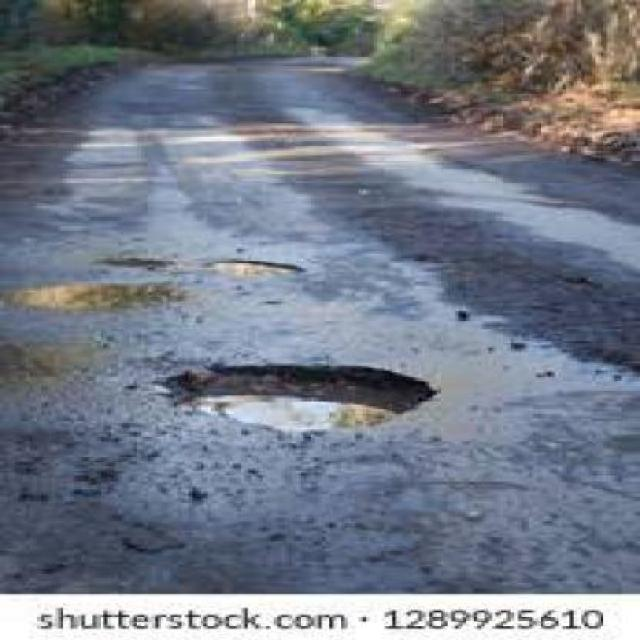pothole: (141, 354, 441, 434), (188, 251, 307, 277)
